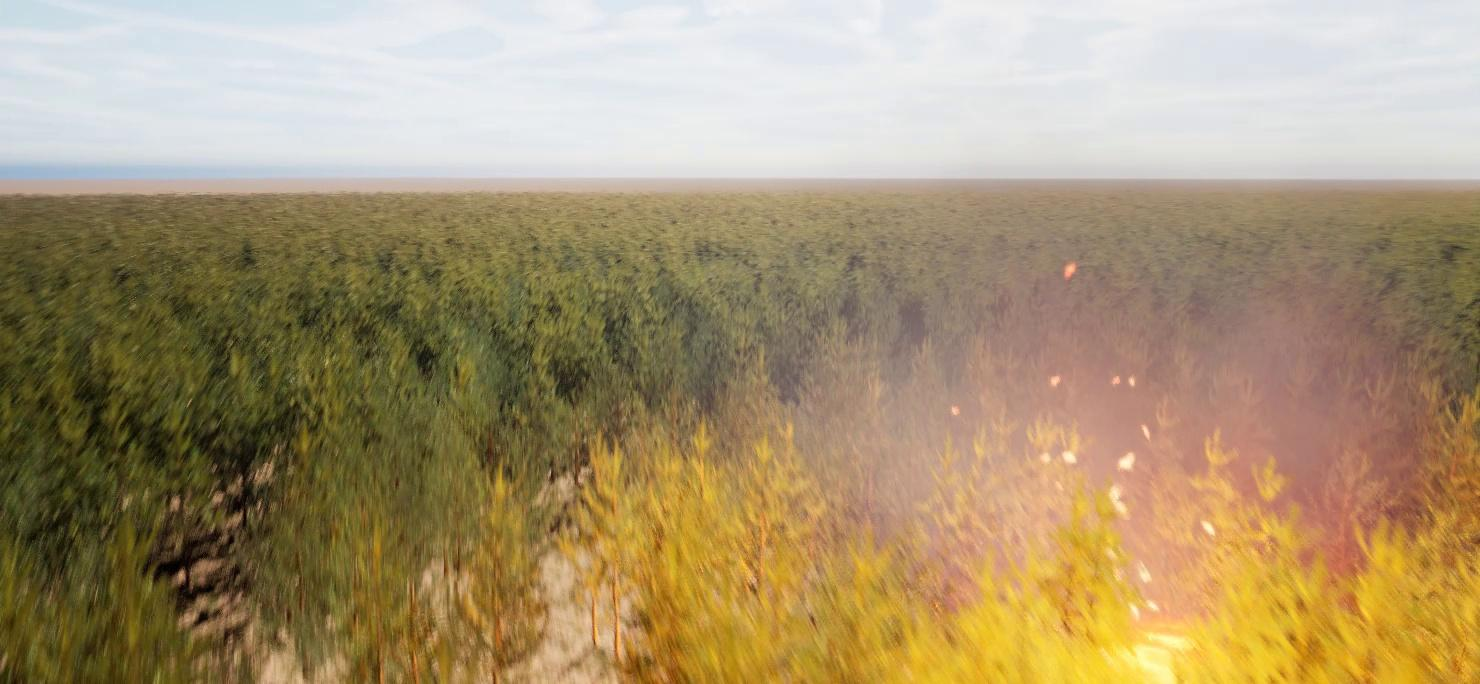fire: (933, 454, 1479, 683)
smoke: (756, 194, 1479, 624)
